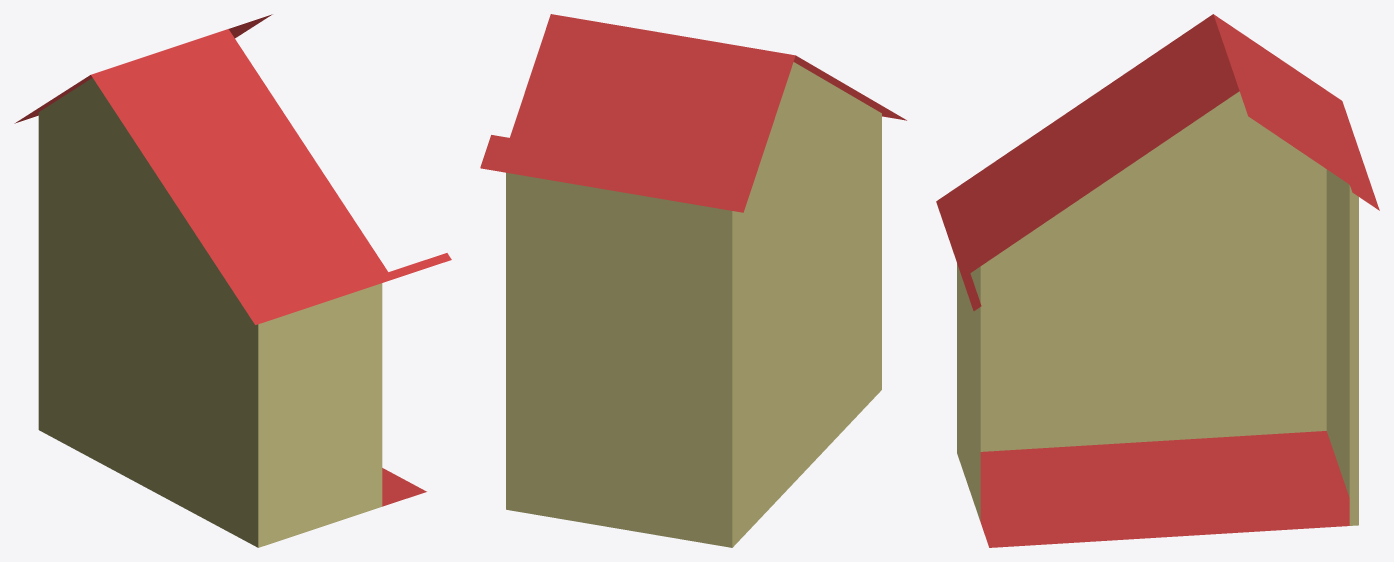
The picture shows the model from 3 angles, left to right: view 1: azimuth 30°, elevation 25°; view 2: azimuth 150°, elevation 25°; view 3: azimuth 270°, elevation 25°; orthographic projection. The views are drawn at different scales.
Bounding box in the file's own units: 8.61 × 11.98 × 12.39.
